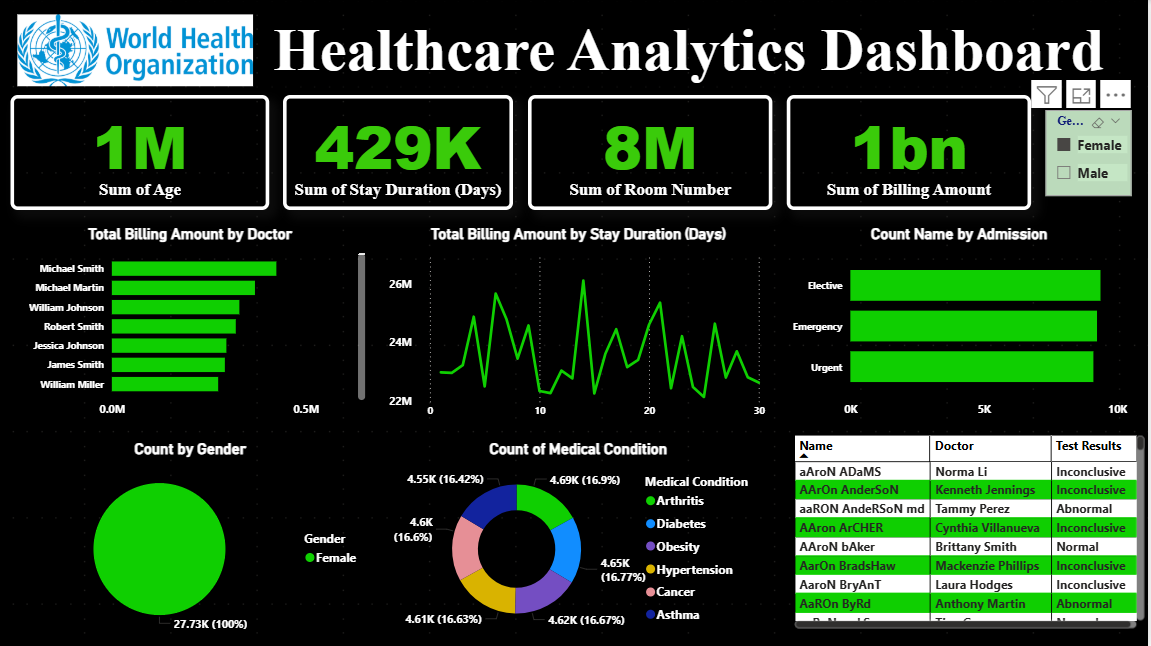

What the dashboard file says about the page in this screenshot:
{"tool":"powerbi","page":{"name":"Page 1","canvas":[1280,720],"ordinal":0},"visuals":[{"type":"card","fields":{"Values":["Sum(healthcare_dataset.Stay Duration (Days))"]},"box":[317.4,105.9,256,128],"z":0},{"type":"card","fields":{"Values":["Sum(healthcare_dataset.Age)"]},"box":[13.4,105.9,288,128],"z":1000},{"type":"card","fields":{"Values":["Sum(healthcare_dataset.Room Number)"]},"box":[589.4,105.9,272,128],"z":2000},{"type":"card","fields":{"Values":["Sum(healthcare_dataset.Billing Amount)"]},"box":[877.4,105.9,272,128],"z":3000},{"type":"pieChart","title":"Count by Gender","fields":{"Category":["healthcare_dataset.Gender"],"Y":["CountNonNull(healthcare_dataset.Name)"]},"box":[13.4,489.9,400,224],"z":4000},{"type":"barChart","title":"Count Name by Admission ","fields":{"Y":["CountNonNull(healthcare_dataset.Name)"],"Category":["healthcare_dataset.Admission Type"]},"box":[877.4,249.9,384,224],"z":5000},{"type":"donutChart","title":"Count of Medical Condition ","fields":{"Category":["healthcare_dataset.Medical Condition"],"Y":["CountNonNull(healthcare_dataset.Medical Condition)"]},"box":[429.4,489.9,432,224],"z":6000},{"type":"lineChart","title":"Total Billing Amount by Stay Duration (Days)","fields":{"Y":["Sum(healthcare_dataset.Billing Amount)"],"Category":["healthcare_dataset.Stay Duration (Days)"]},"box":[429.4,249.9,432,224],"z":7000},{"type":"clusteredBarChart","title":"Total Billing Amount by Doctor","fields":{"Category":["healthcare_dataset.Doctor"],"Y":["Sum(healthcare_dataset.Billing Amount)"]},"box":[13.4,249.9,400,224],"z":8000},{"type":"tableEx","fields":{"Values":["healthcare_dataset.Name","healthcare_dataset.Doctor","healthcare_dataset.Test Results"]},"box":[880,480,400,224],"z":9000},{"type":"slicer","fields":{"Values":["healthcare_dataset.Gender"]},"box":[1165.4,121.9,96,96],"z":10000},{"type":"shape","title":"Healthcare Analytics Dashboard","box":[272,16,992,80],"z":11000},{"type":"image","box":[16,0,272,112],"z":12000}]}

Visuals, with their boxes in screenshot pixels (x1, y1, x2, y2), scaled from the page's 1280x720 canvas onto the 1151x646 screenshot:
card - Sum(healthcare_dataset.Stay Duration (Days)): 285, 95, 516, 210
card - Sum(healthcare_dataset.Age): 12, 95, 271, 210
card - Sum(healthcare_dataset.Room Number): 530, 95, 775, 210
card - Sum(healthcare_dataset.Billing Amount): 789, 95, 1034, 210
"Count by Gender" pieChart: 12, 440, 372, 641
"Count Name by Admission " barChart: 789, 224, 1134, 425
"Count of Medical Condition " donutChart: 386, 440, 775, 641
"Total Billing Amount by Stay Duration (Days)" lineChart: 386, 224, 775, 425
"Total Billing Amount by Doctor" clusteredBarChart: 12, 224, 372, 425
tableEx - healthcare_dataset.Name x healthcare_dataset.Doctor: 791, 431, 1150, 632
slicer - healthcare_dataset.Gender: 1048, 109, 1134, 196
"Healthcare Analytics Dashboard" shape: 245, 14, 1137, 86
image: 14, 0, 259, 100
